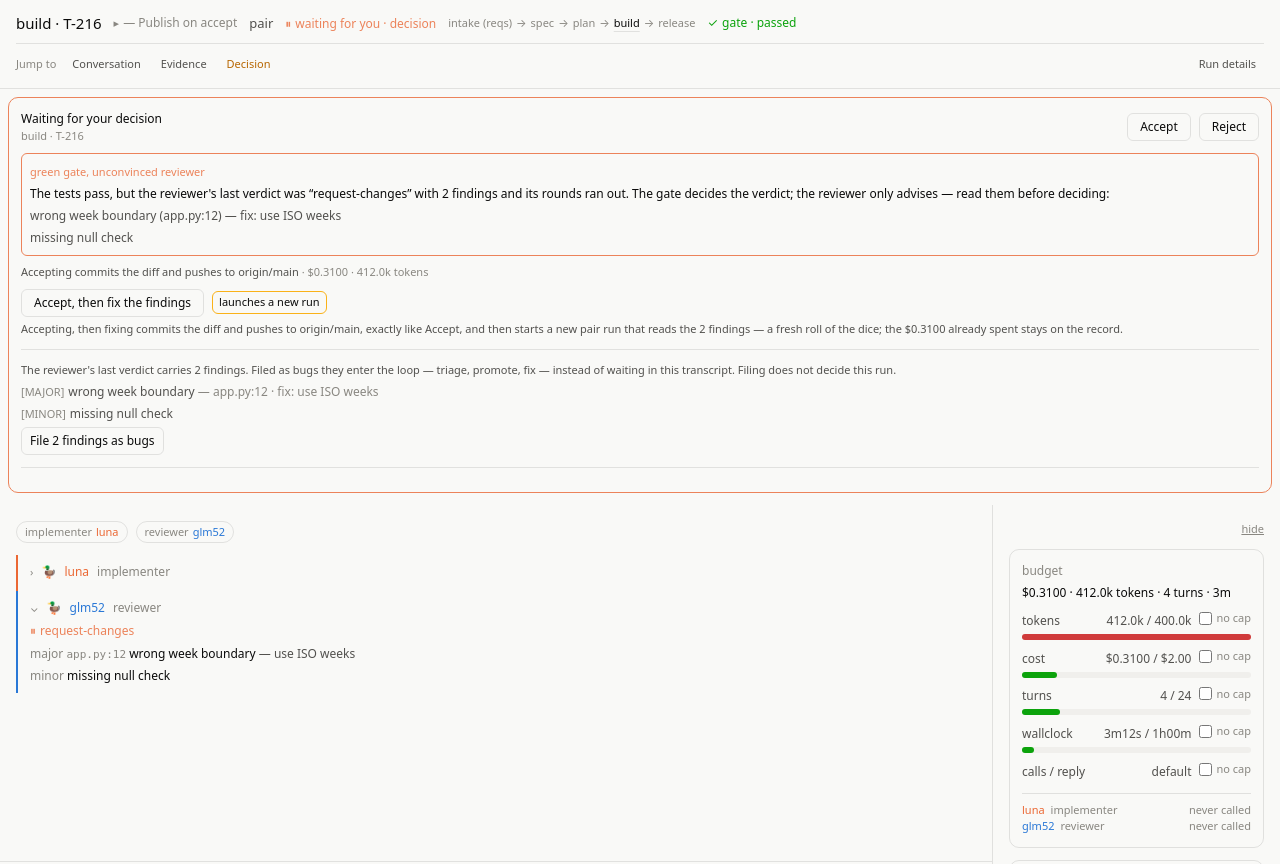
Test: RunView — one decision surface at a green gate with an unconvinced reviewer › files the findings from the card and reports the bug ids
Click the button with test id "file-findings-button" at (92, 440), box [21,426,164,454]
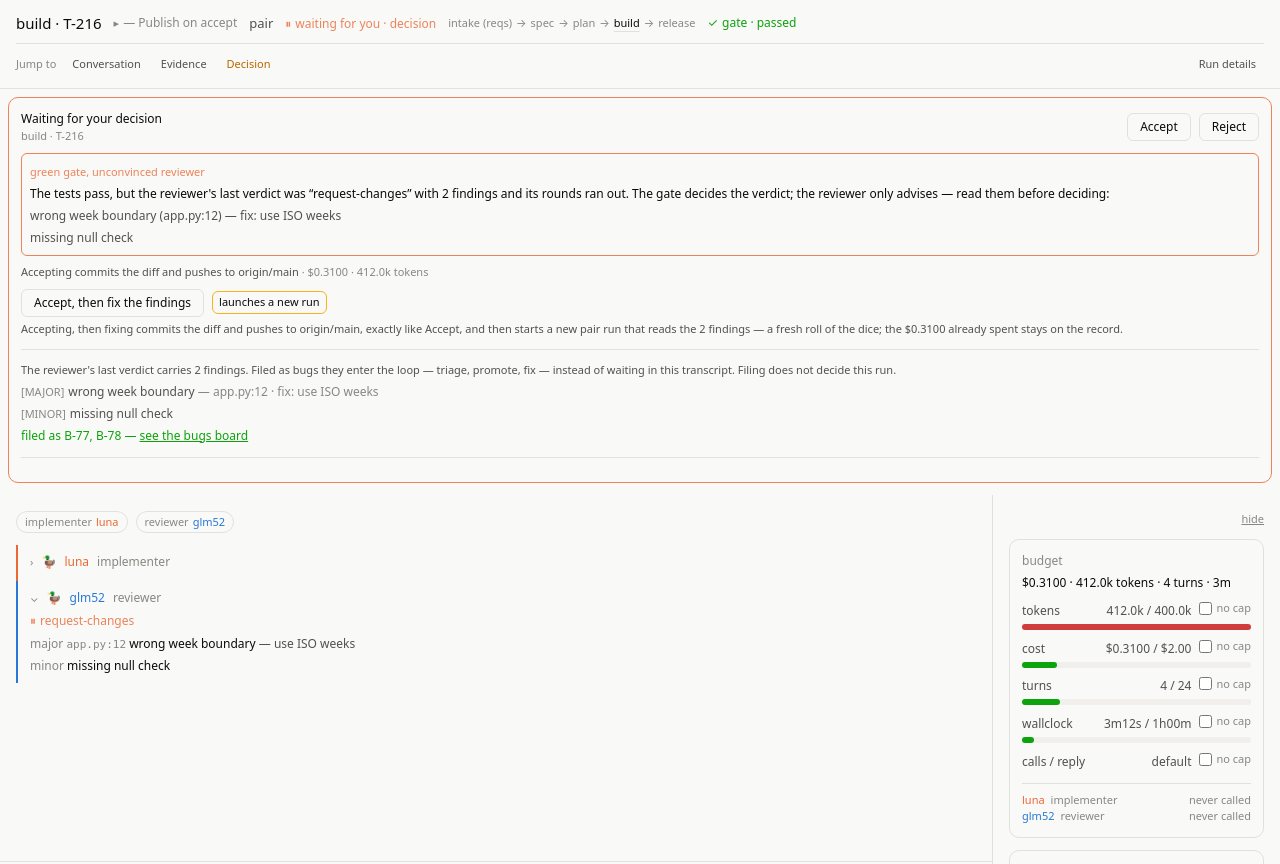
Check: the element with test id "file-findings-done" shows "B-77, B-78", box [64,426,121,444]
